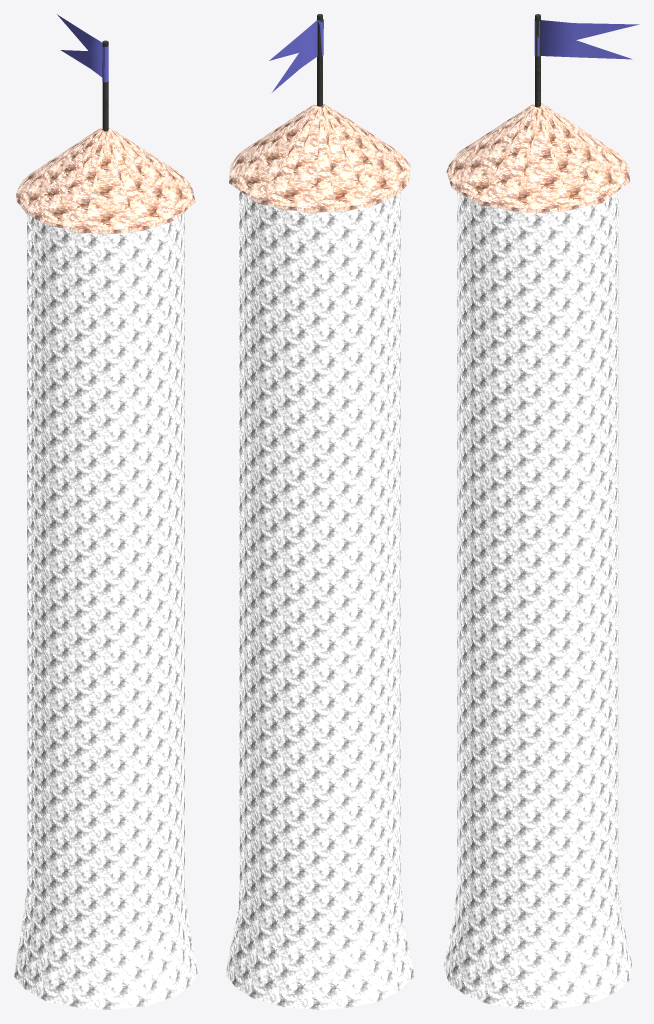
File: SM_castle_tower_04.fbx
3 views of the same model, side by side, from view 1: azimuth 30°, elevation 25°; view 2: azimuth 150°, elevation 25°; view 3: azimuth 270°, elevation 25° (orthographic). The views are drawn at different scales.
Parts seen in each view (by area): view 1: SM_castle_tower_04_LOD0; view 2: SM_castle_tower_04_LOD0; view 3: SM_castle_tower_04_LOD0.
Part boxes in pixels (bbox=[...]): SM_castle_tower_04_LOD0: bbox=[14, 14, 197, 1009]; SM_castle_tower_04_LOD0: bbox=[226, 14, 414, 1009]; SM_castle_tower_04_LOD0: bbox=[443, 14, 639, 1009].
Bounding box in the file's own units: 1220 × 1272 × 6822.
Materials: 4 (4 with a texture image).
